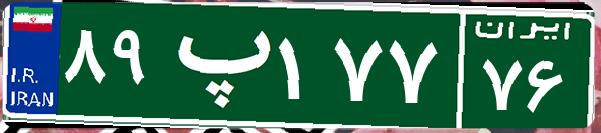1: (273, 28, 330, 110)
6: (525, 38, 570, 115)
7: (385, 28, 445, 110), (330, 28, 385, 110), (475, 38, 525, 113)
8: (57, 26, 110, 107)
9: (110, 28, 158, 105)
پ: (158, 15, 273, 115)
